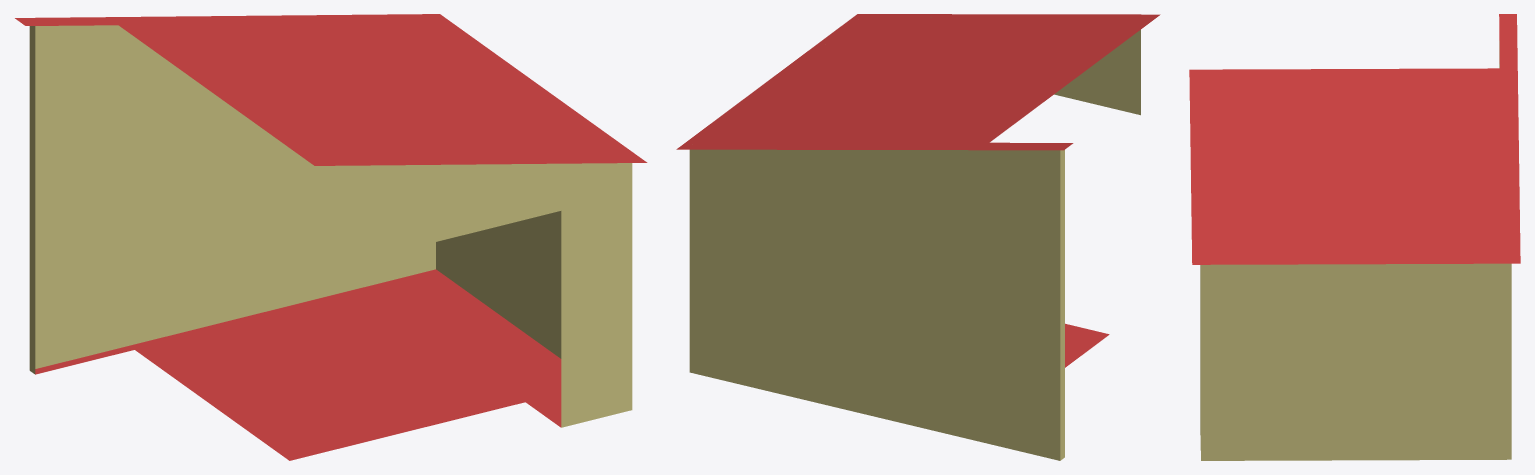
The picture shows the model from 3 angles, left to right: view 1: azimuth 30°, elevation 25°; view 2: azimuth 150°, elevation 25°; view 3: azimuth 270°, elevation 25°; orthographic projection. The views are drawn at different scales.
Bounding box in the file's own units: 11.18 × 9.27 × 8.7.
